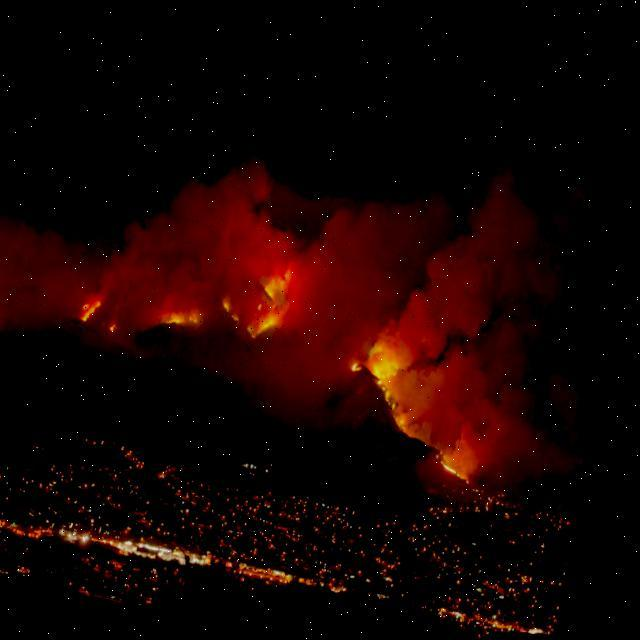Fire: (226, 233, 312, 334), (355, 317, 436, 419), (85, 280, 211, 334)
